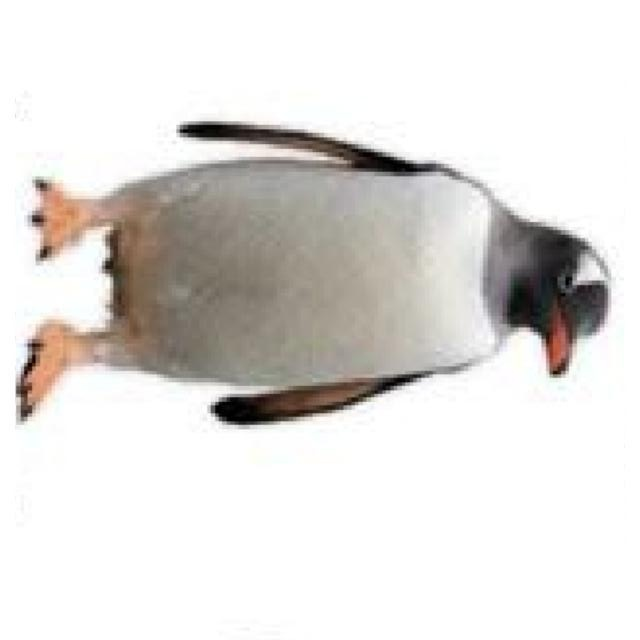penguin: (16, 122, 609, 427)
